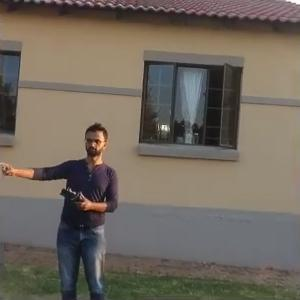follow: (0, 118, 124, 298)
